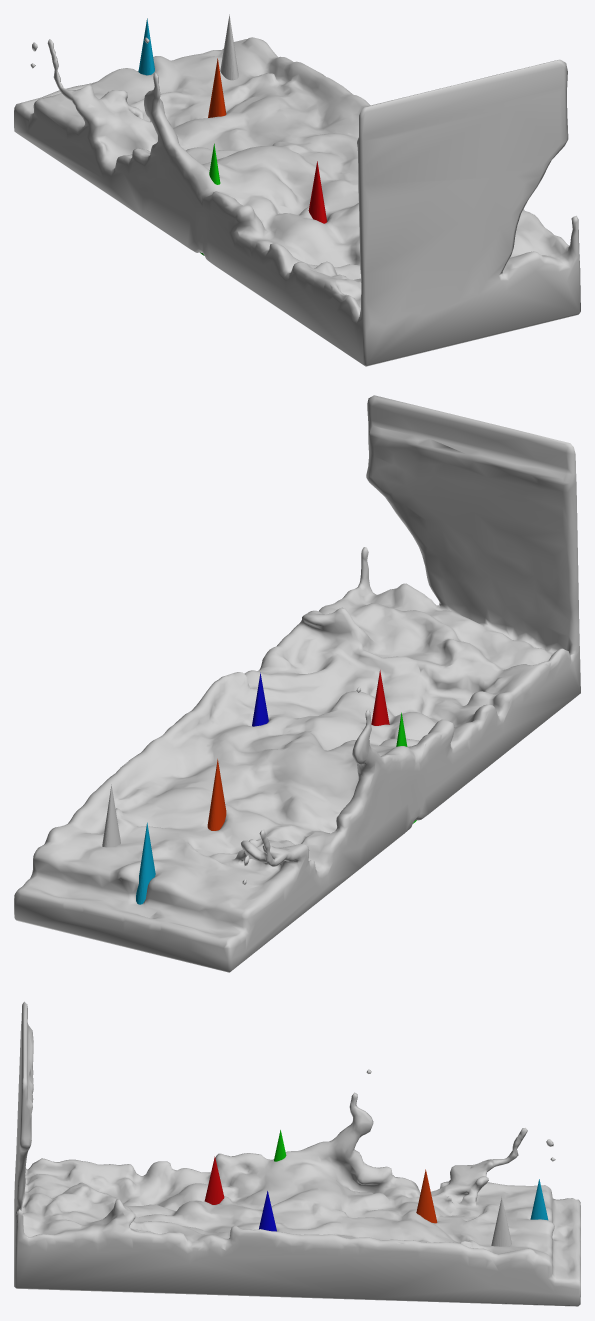
The picture shows the model from 3 angles, top to bottom: view 1: azimuth 30°, elevation 25°; view 2: azimuth 150°, elevation 25°; view 3: azimuth 270°, elevation 25°; orthographic projection. The views are drawn at different scales.
Visible parts, largest first — view 1: Liquid_Domain, 円錐, 円錐.001, 円錐.004, 円錐.005; view 2: Liquid_Domain, 円錐.005, 円錐.004; view 3: Liquid_Domain, 円錐.004, 円錐, 円錐.001, 円錐.002, 円錐.005.
Part boxes in pixels (x1,y1,x2,y2): Liquid_Domain: [14, 37, 580, 366]; 円錐: [220, 14, 238, 80]; 円錐.001: [308, 161, 326, 223]; 円錐.004: [208, 58, 226, 117]; 円錐.005: [138, 18, 154, 75]; Liquid_Domain: [14, 395, 580, 972]; 円錐.005: [136, 822, 155, 904]; 円錐.004: [207, 759, 226, 830]; Liquid_Domain: [14, 1001, 580, 1306]; 円錐.004: [416, 1169, 437, 1223]; 円錐: [491, 1197, 511, 1246]; 円錐.001: [204, 1156, 224, 1204]; 円錐.002: [259, 1191, 276, 1231]; 円錐.005: [530, 1179, 548, 1220].
Size of the model in its own units: 129 by 158 by 361.
